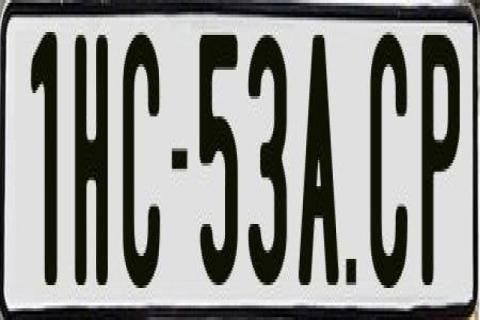0: (247, 35, 291, 303), (199, 26, 239, 291), (28, 32, 56, 294)
A: (298, 27, 344, 280)
C: (120, 32, 160, 306), (370, 32, 408, 302)
H: (73, 29, 111, 285)
P: (421, 29, 465, 297)
